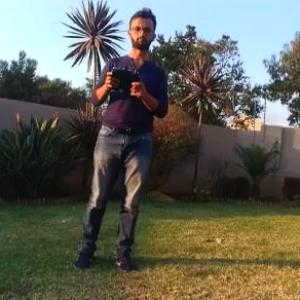follow: (70, 1, 174, 274)
